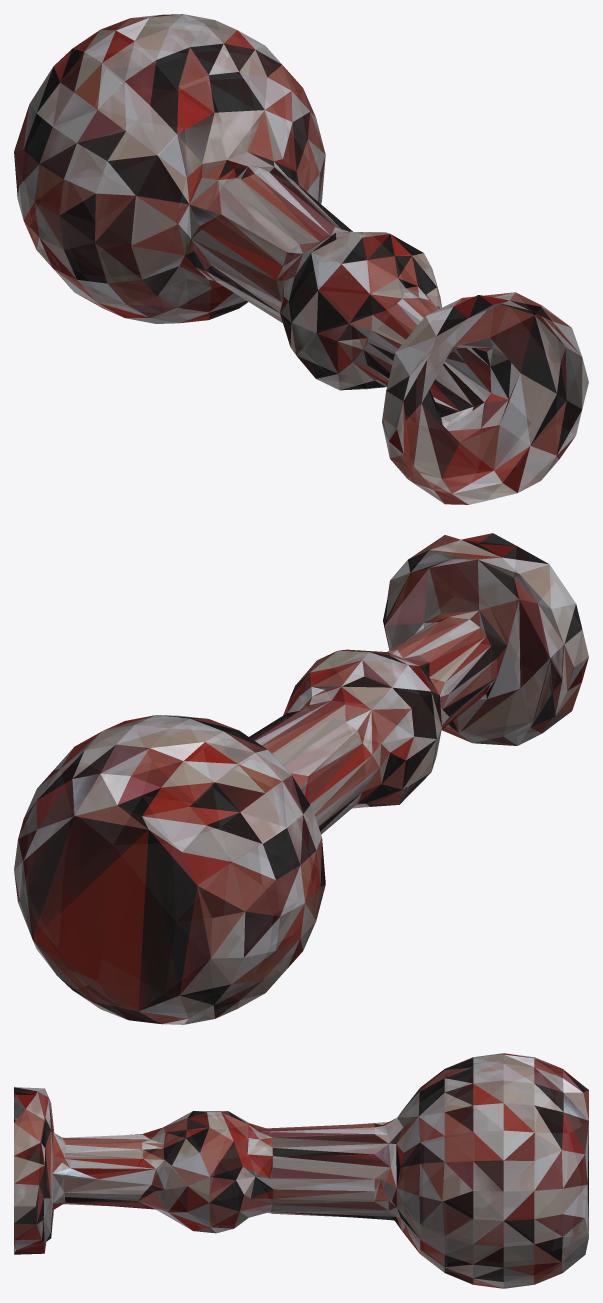
File: model_align.obj
The picture shows the model from 3 angles, top to bottom: view 1: azimuth 30°, elevation 25°; view 2: azimuth 150°, elevation 25°; view 3: azimuth 270°, elevation 25°; orthographic projection. The views are drawn at different scales.
Bounding box in the file's own units: 0.0811 × 0.0811 × 0.1972.
